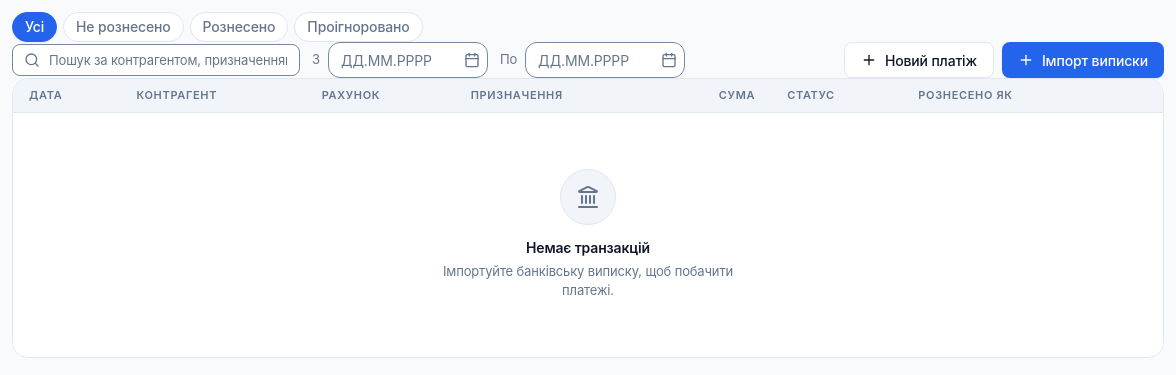
Scenario: BankTransactionsTab — валюта суми (multi-bank) › порожньо через фільтр статусу → «Нічого не знайдено», а не заклик імпортувати виписку
Click the button "Рознесено" at [239, 27], box x1=190 y1=12 x2=288 y2=42
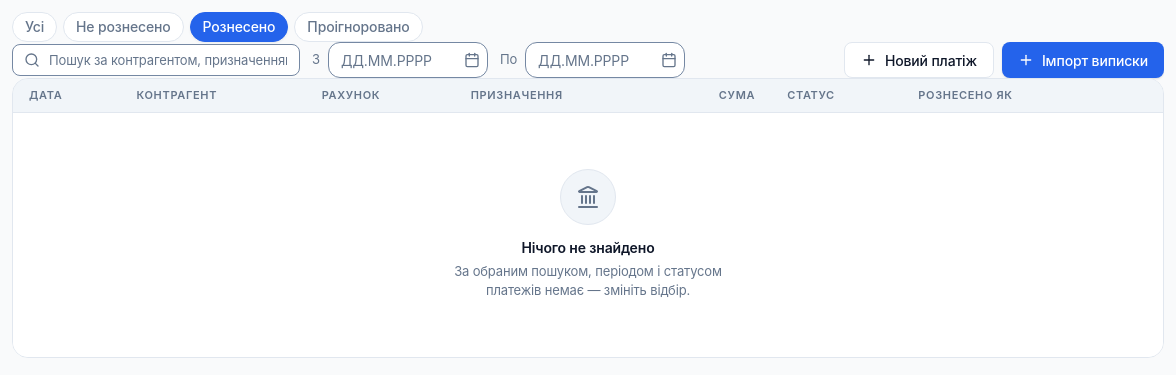
Check: the text "Нічого не знайдено" is shown, box x1=522 y1=238 x2=654 y2=256
Check: the text "Імпортуйте банківську виписку" is gone
